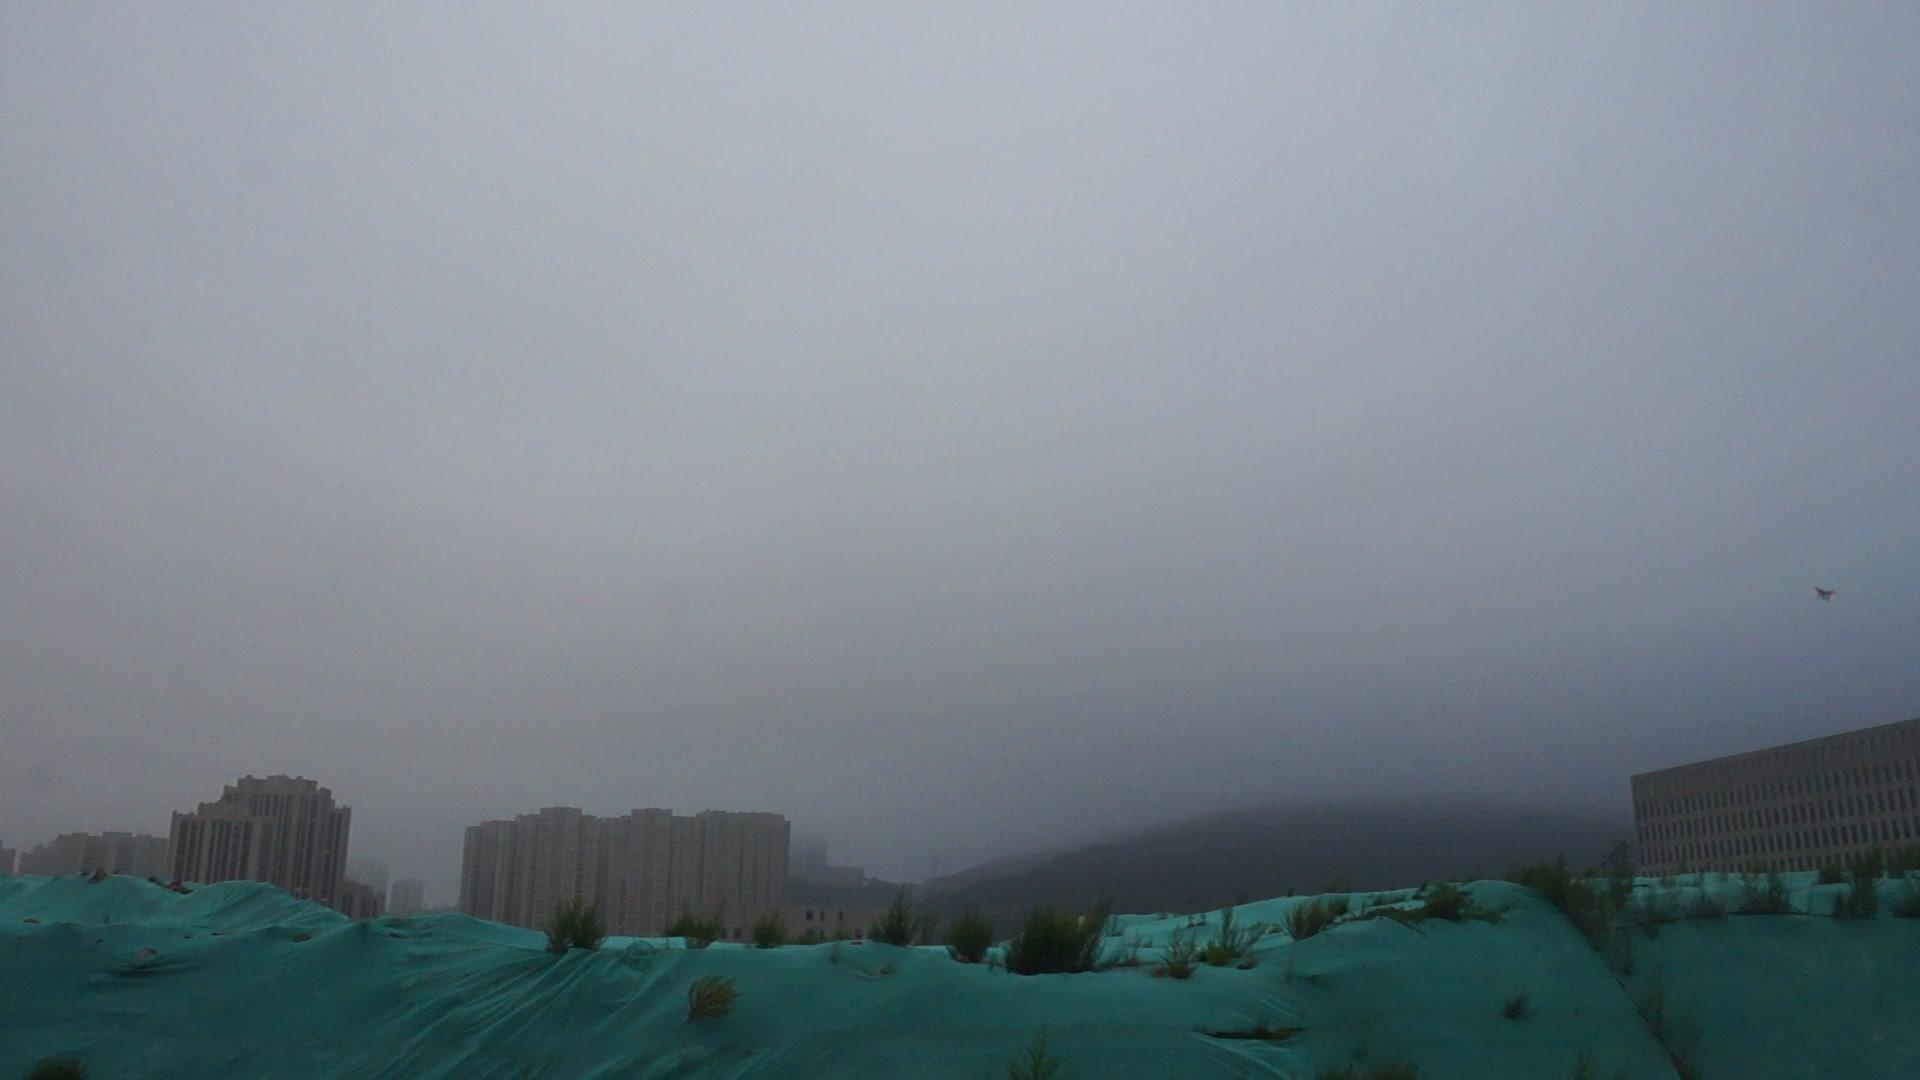UAV: (1815, 587, 1840, 604)
